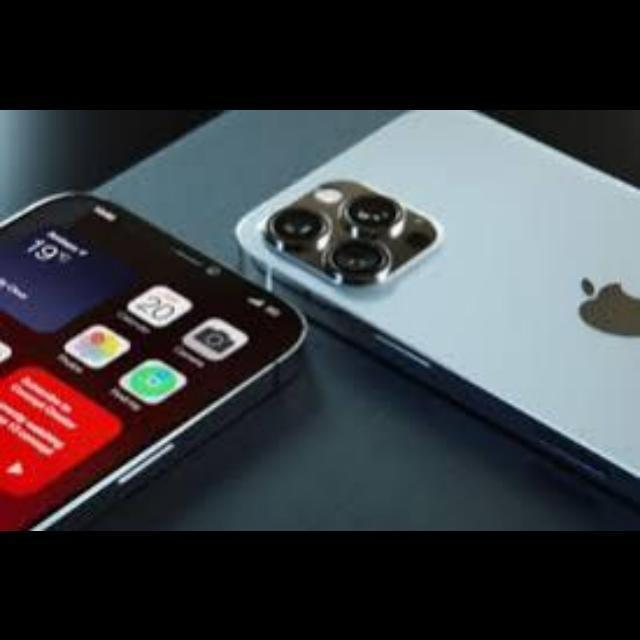phone: (192, 116, 640, 522), (0, 147, 304, 531)
